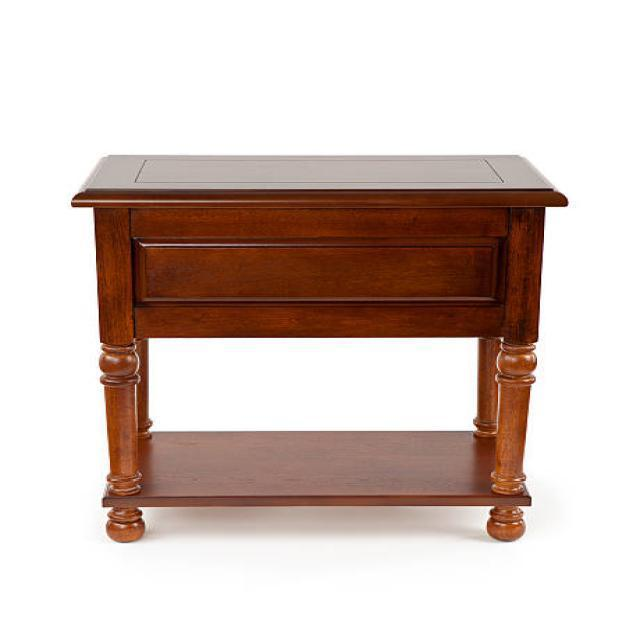table: (70, 152, 568, 542)
